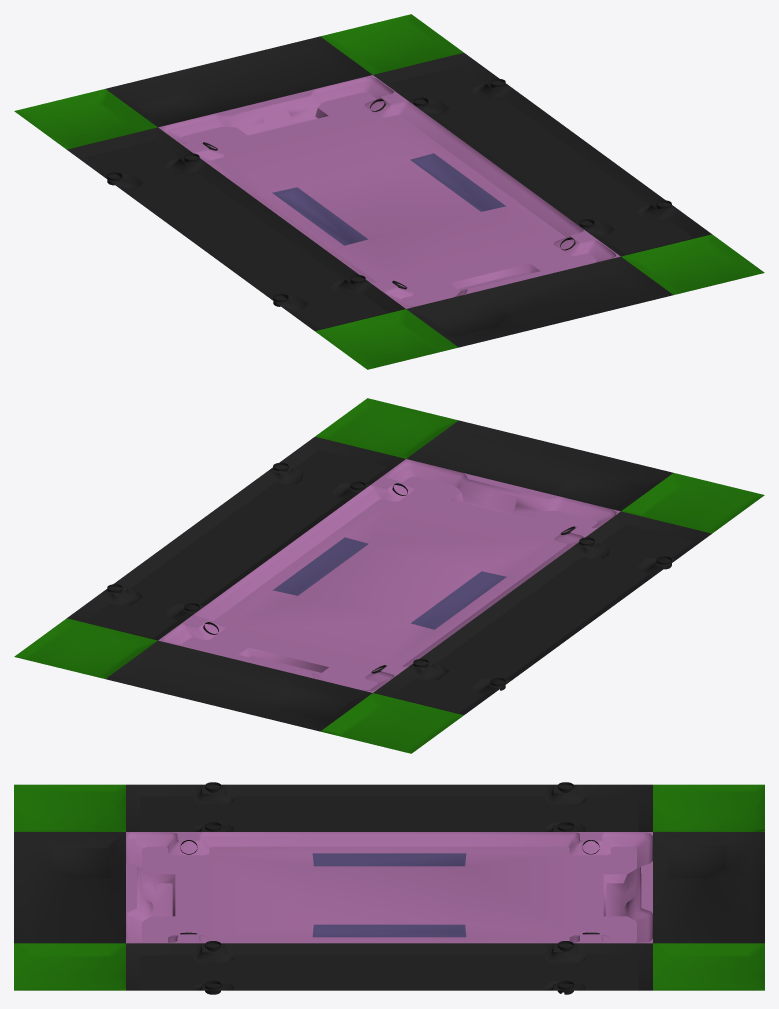
Rendered from Building_A_Staircase_B_Ceiling_A.fbx.
3 renders of one model, top to bottom at view 1: azimuth 30°, elevation 25°; view 2: azimuth 150°, elevation 25°; view 3: azimuth 270°, elevation 25°, orthographic. The views are drawn at different scales.
Visible parts, largest first — view 1: Geom_Building_A_Staircase_B_Ceiling_A_LOD00; view 2: Geom_Building_A_Staircase_B_Ceiling_A_LOD00; view 3: Geom_Building_A_Staircase_B_Ceiling_A_LOD00.
Part boxes in pixels (x1,y1,x2,y2): Geom_Building_A_Staircase_B_Ceiling_A_LOD00: (14, 14, 764, 369); Geom_Building_A_Staircase_B_Ceiling_A_LOD00: (14, 398, 764, 753); Geom_Building_A_Staircase_B_Ceiling_A_LOD00: (14, 782, 764, 994).
Size of what is drawn, in the model's own units: 740 by 29.14 by 1140.
